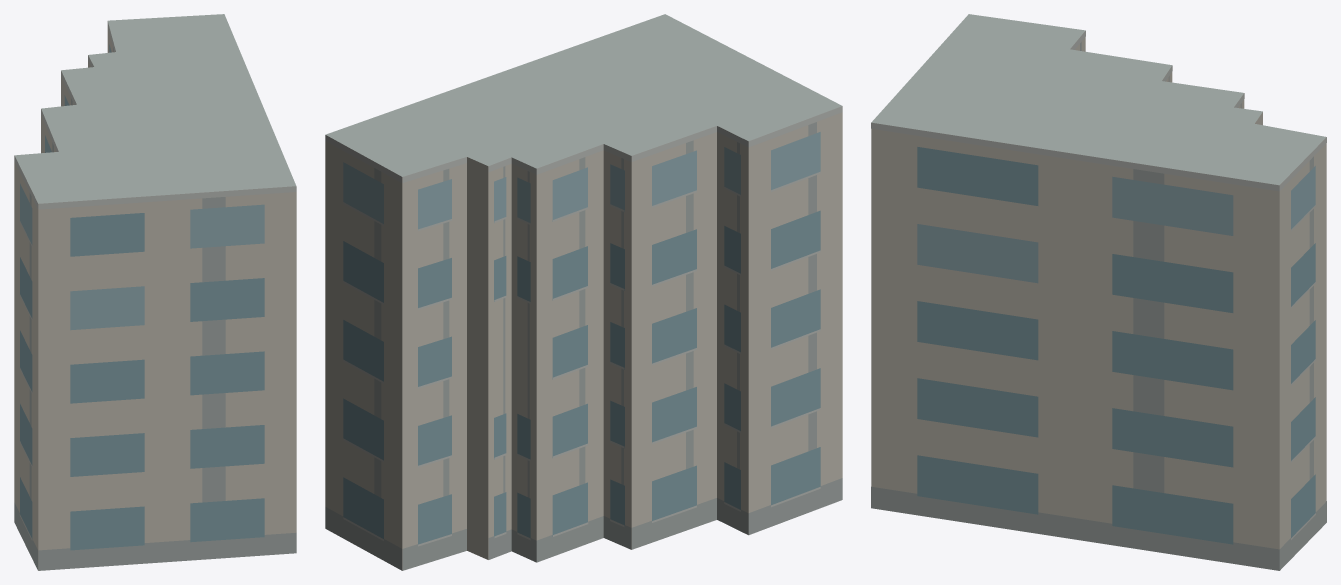
File: survey-upis-32847588.glb
3 renders of one model, left to right at view 1: azimuth 30°, elevation 25°; view 2: azimuth 150°, elevation 25°; view 3: azimuth 270°, elevation 25°, orthographic. The views are drawn at different scales.
Parts seen in each view (by area): view 1: survey-upis-32847588.tmp; view 2: survey-upis-32847588.tmp; view 3: survey-upis-32847588.tmp.
Boxes of the visible parts, x1=… form: survey-upis-32847588.tmp: x1=14, y1=14, x2=296, y2=570; survey-upis-32847588.tmp: x1=325, y1=14, x2=842, y2=570; survey-upis-32847588.tmp: x1=871, y1=14, x2=1326, y2=570.
Bounding box in the file's own units: 14.68 × 15.4 × 16.5.
